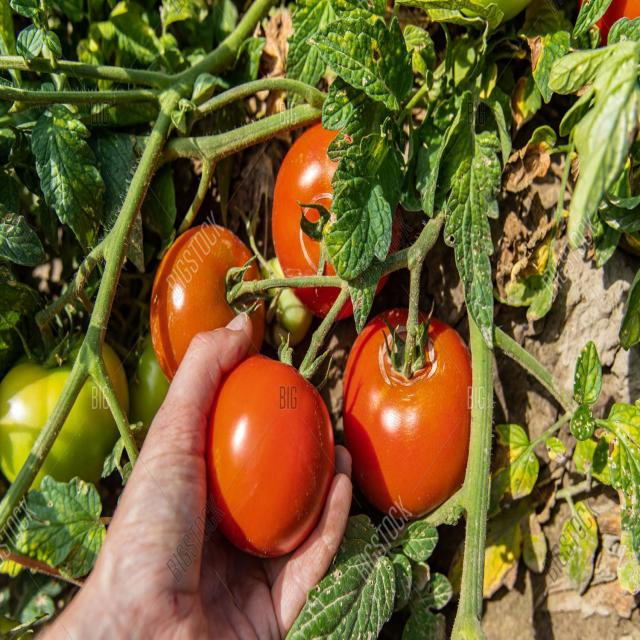kirmizi: (154, 202, 494, 575)
